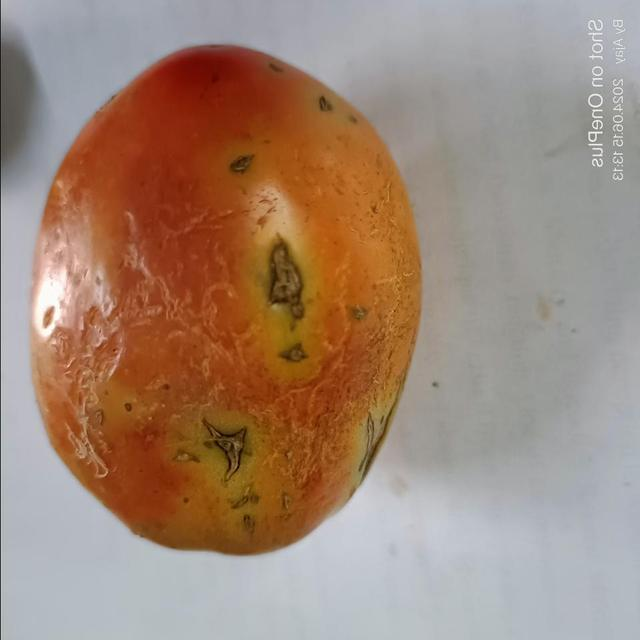Bacterial Spot Fruit: (17, 19, 238, 310)
